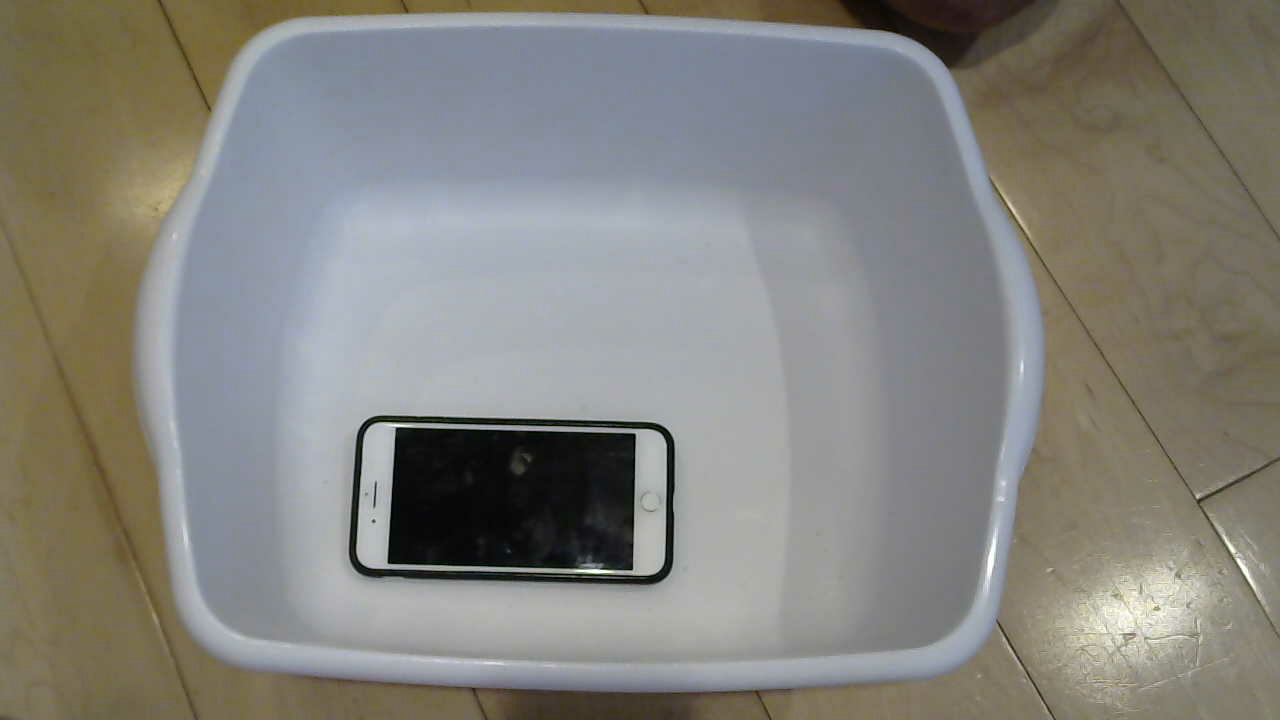phone: (319, 409, 693, 602)
